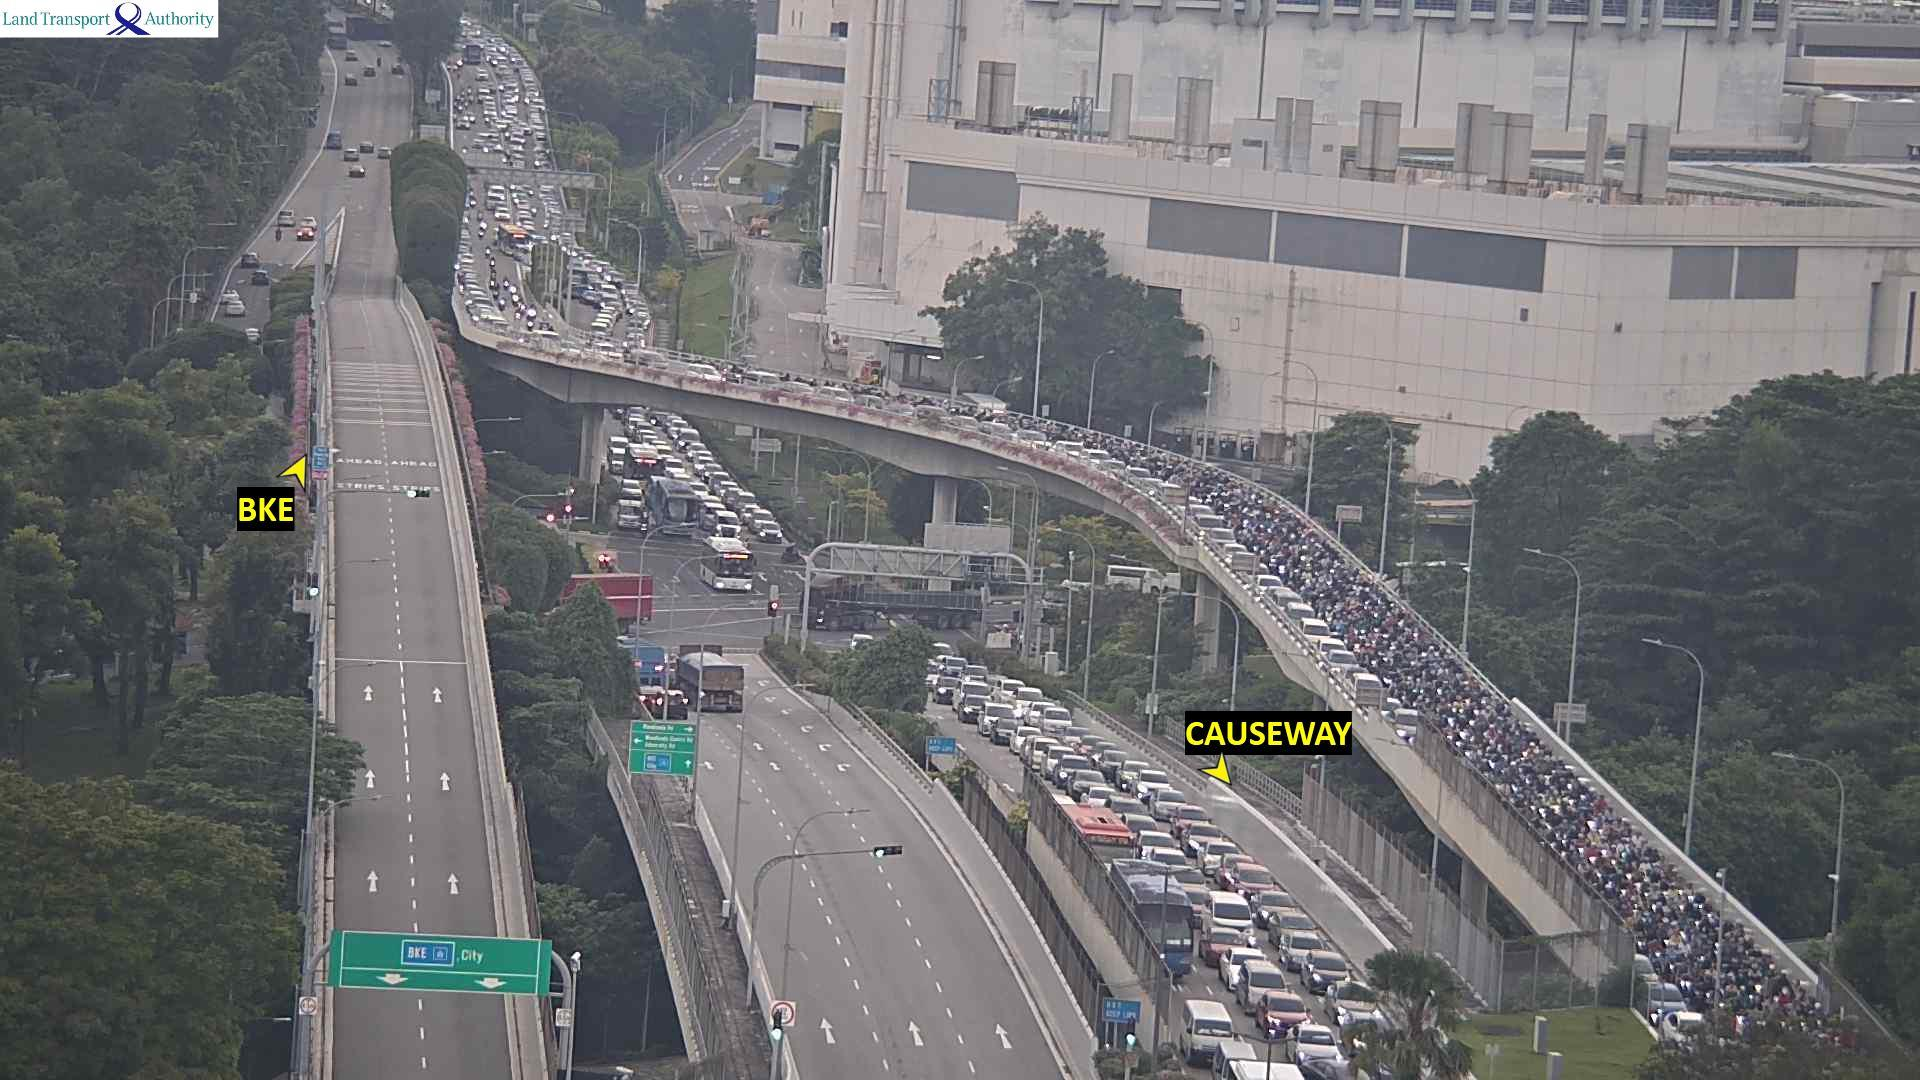vehicle-causeway-johor: (1114, 862, 1189, 973), (1062, 804, 1134, 874), (1187, 895, 1257, 947), (1195, 919, 1255, 963), (704, 538, 753, 591), (1188, 1000, 1228, 1064), (651, 481, 698, 537), (1250, 993, 1309, 1034), (1269, 927, 1329, 961), (1179, 833, 1238, 868), (1201, 894, 1262, 927), (1329, 985, 1378, 1023), (1233, 965, 1288, 997), (1305, 953, 1348, 992), (1287, 1027, 1342, 1052), (1051, 758, 1101, 786), (1220, 947, 1266, 976), (1168, 872, 1211, 901), (1230, 1063, 1302, 1080), (1215, 1047, 1257, 1075), (1230, 866, 1275, 891), (1071, 781, 1117, 804), (1026, 741, 1069, 766), (1014, 688, 1047, 720), (1138, 833, 1180, 857), (1149, 793, 1192, 815), (1127, 773, 1168, 796), (1101, 794, 1142, 818), (626, 448, 659, 477), (1200, 517, 1233, 546), (1027, 704, 1063, 731), (463, 277, 498, 303), (1043, 709, 1073, 740), (1259, 893, 1292, 920), (961, 696, 1004, 717), (959, 683, 992, 709), (973, 704, 1009, 728), (1238, 554, 1266, 584), (479, 306, 510, 331), (1292, 620, 1331, 640), (1162, 807, 1200, 827), (940, 682, 969, 707), (1095, 754, 1129, 775), (469, 287, 504, 309), (692, 484, 719, 510), (1262, 574, 1290, 599), (1013, 729, 1040, 753), (998, 682, 1026, 705), (1276, 591, 1307, 612), (816, 385, 851, 404), (1387, 708, 1414, 732), (1087, 452, 1117, 472), (1226, 543, 1250, 568), (688, 361, 720, 380), (1321, 644, 1354, 661), (715, 513, 738, 537), (638, 351, 663, 373), (1130, 468, 1160, 487), (748, 372, 779, 389), (717, 512, 740, 535), (620, 502, 642, 526), (611, 451, 634, 473), (1088, 749, 1121, 765), (705, 505, 725, 531), (679, 430, 702, 452), (624, 491, 646, 513), (732, 493, 757, 513), (1192, 505, 1212, 530), (487, 319, 514, 336), (758, 522, 781, 542), (959, 667, 986, 683), (752, 512, 775, 530), (695, 458, 719, 476), (674, 422, 694, 443), (1216, 530, 1237, 550), (994, 425, 1021, 440), (785, 380, 812, 394), (744, 506, 767, 522), (690, 450, 713, 465), (476, 299, 500, 315), (712, 472, 732, 491), (948, 658, 969, 675), (719, 483, 741, 498), (611, 440, 633, 456), (705, 467, 725, 484), (662, 459, 684, 473), (1025, 433, 1047, 447), (1056, 442, 1080, 455), (622, 480, 641, 496), (1288, 605, 1309, 618), (688, 444, 707, 459), (658, 447, 675, 462), (456, 257, 471, 272), (473, 215, 489, 227), (481, 247, 493, 258), (645, 436, 662, 444), (505, 277, 513, 293), (475, 227, 485, 239), (653, 443, 670, 450), (530, 305, 537, 318), (513, 293, 518, 306), (510, 286, 517, 295), (489, 258, 495, 268)
vehicle-causeway-singapore: (688, 667, 754, 715), (683, 665, 742, 694), (694, 695, 742, 713), (641, 700, 690, 719)
